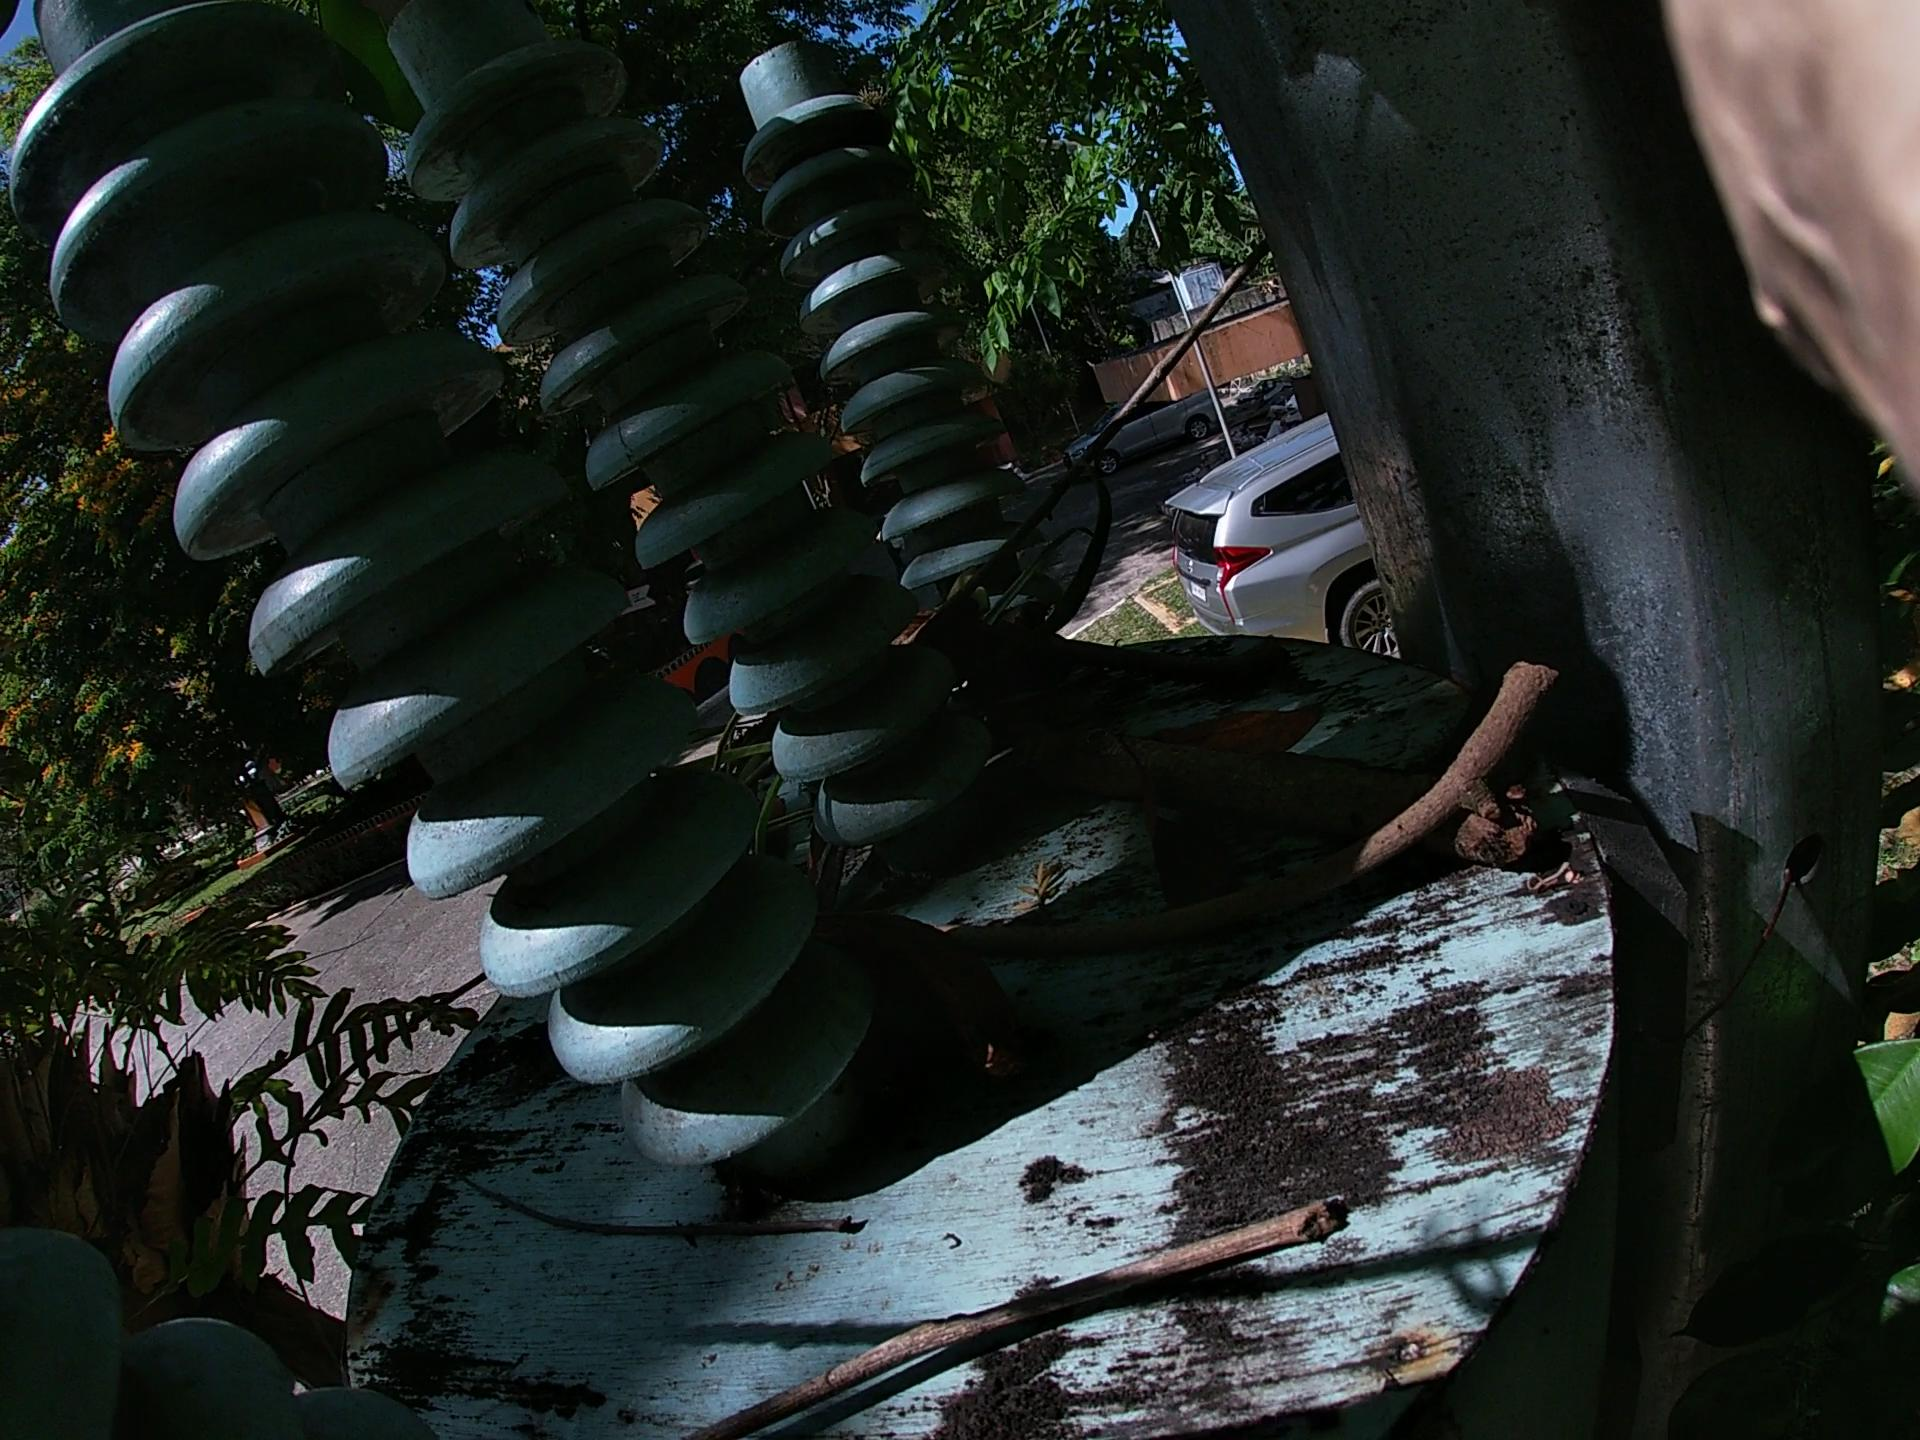branch with leaves: (677, 582, 1657, 1010)
leaf: (1125, 650, 1401, 897)
mahogany fruit: (822, 864, 1052, 1172), (862, 529, 1064, 746)
tree branch: (408, 1119, 1285, 1379), (850, 268, 1311, 708), (869, 755, 1668, 905)
